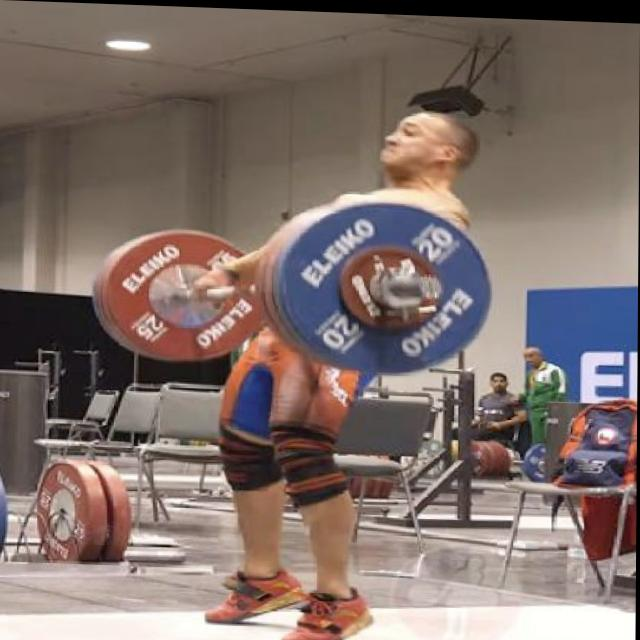barbell: (275, 191, 497, 382)
